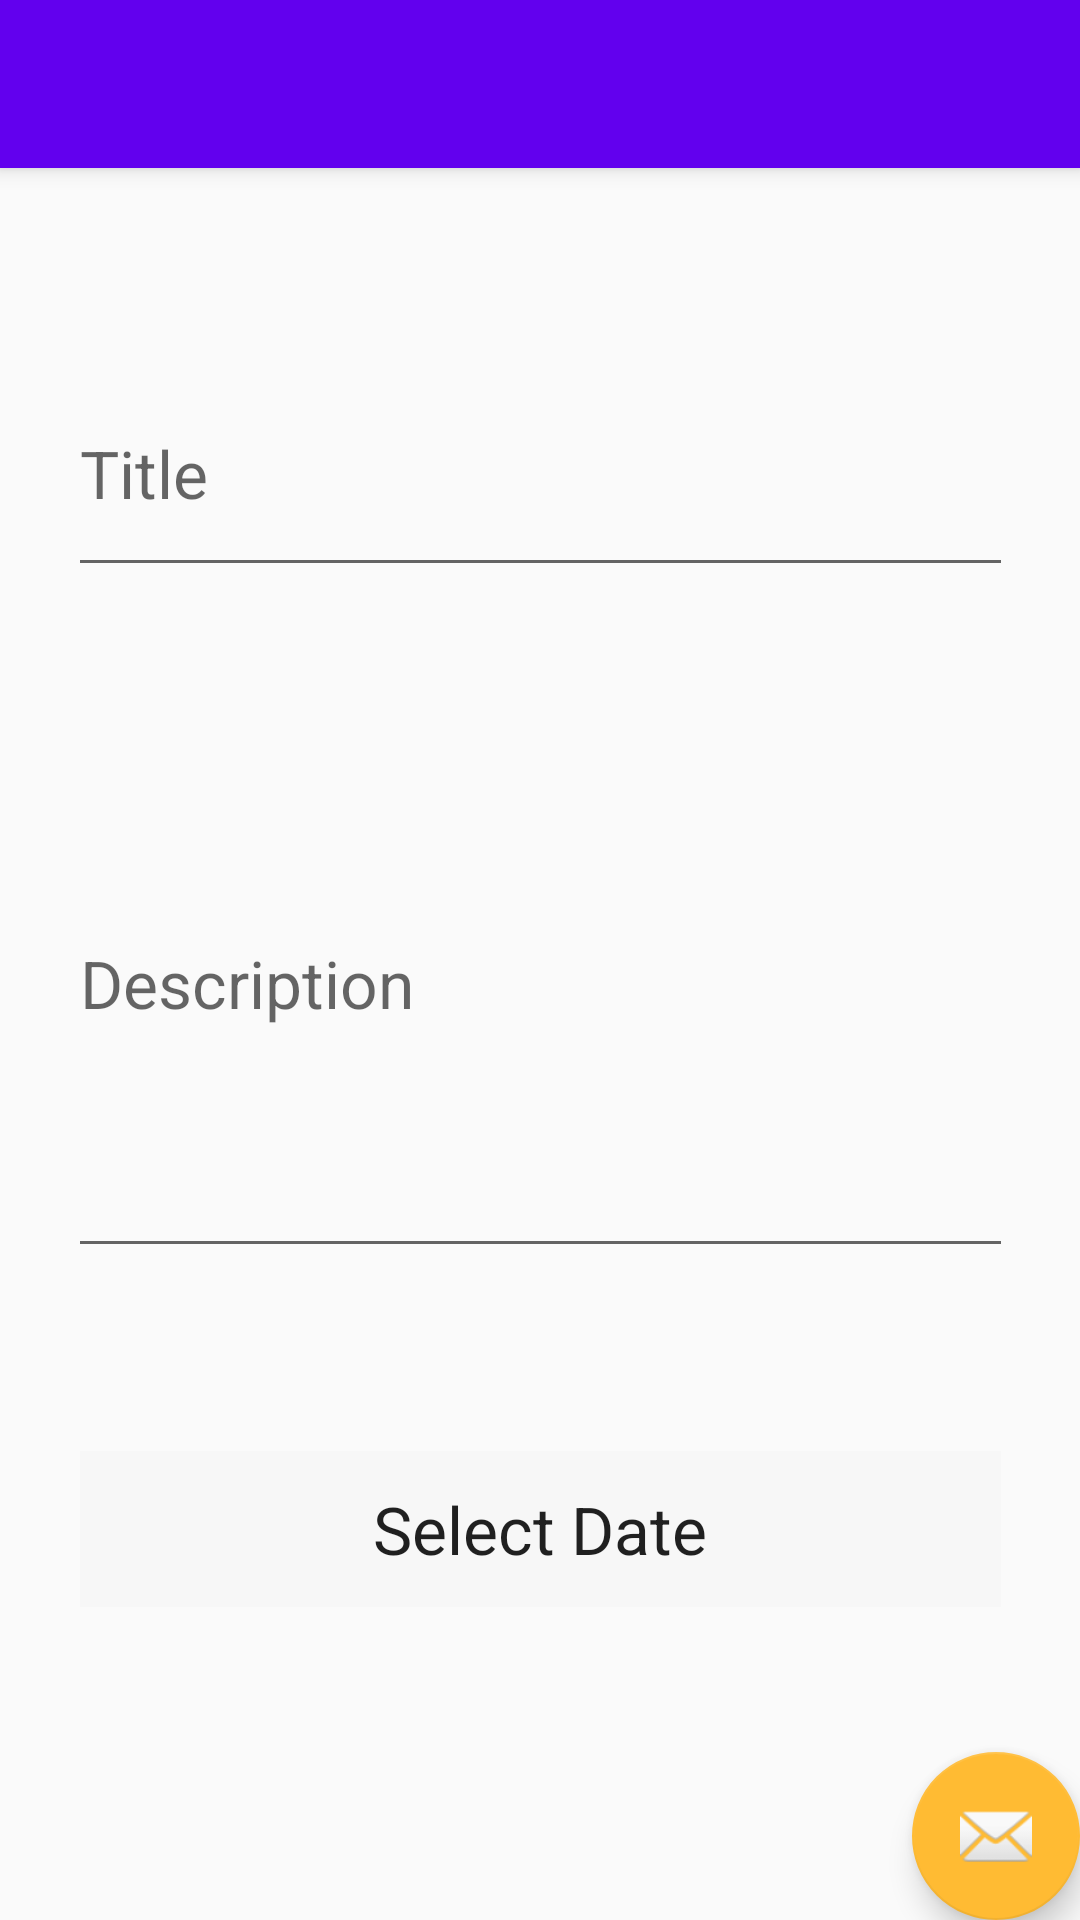

Point at icon controls on the screen. Image size 1080x1920, points as (x=x, y=y).
email: (x=996, y=1836)
